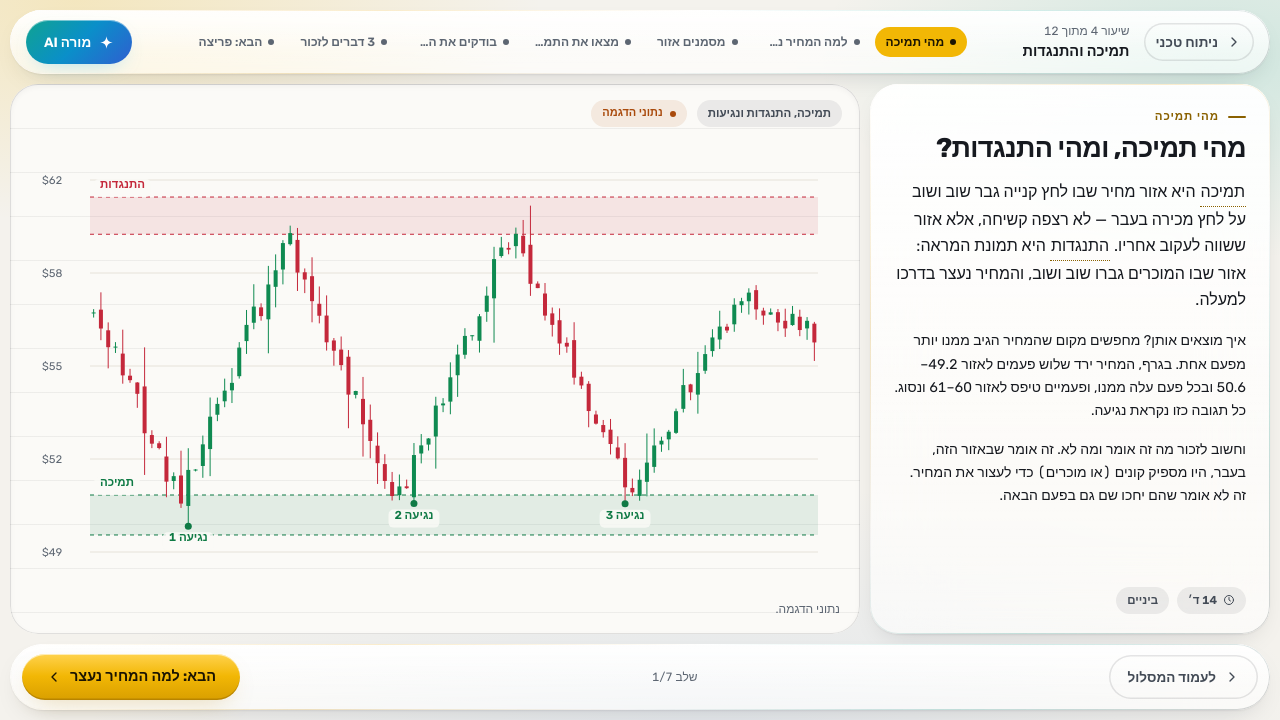
Test: the chart exercise (l1 → T4, step 4) › the feedback step asks for an answer first rather than revealing it
What coordinates should you click on to do the following:
click the button "בודקים את הסימון"
I would click on:
 (461, 42)
Its box is [402,27,520,57].
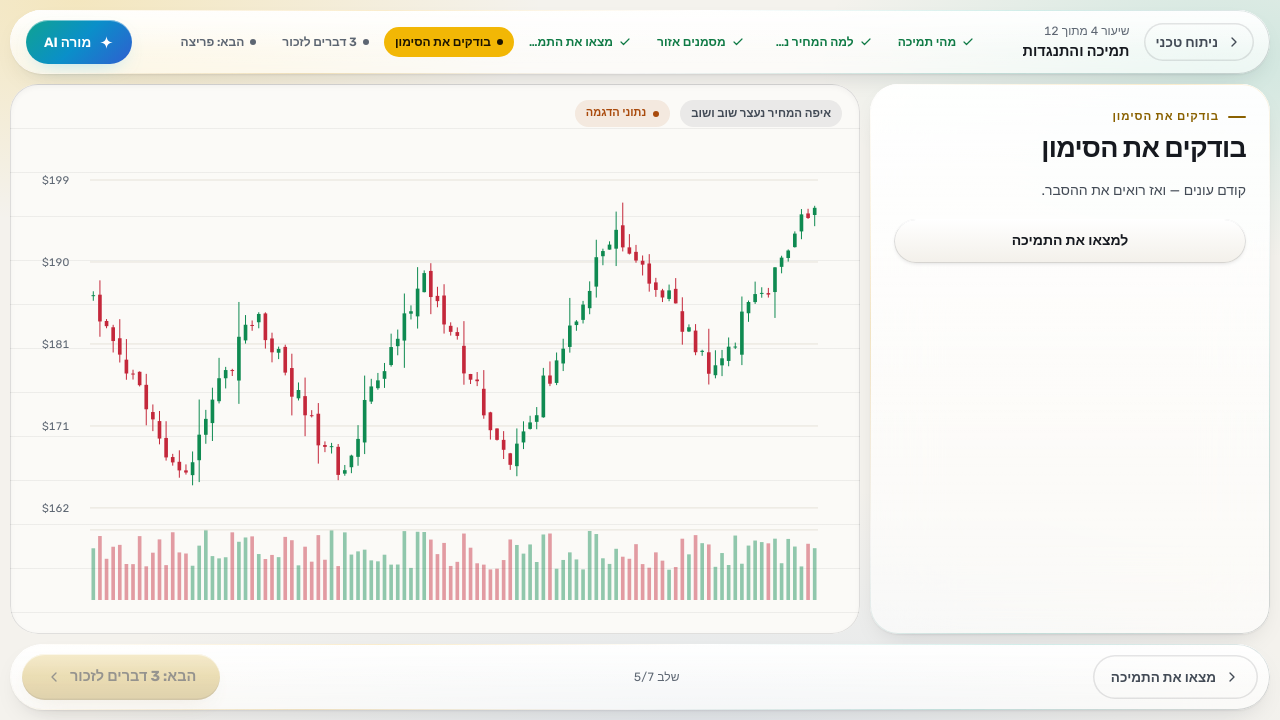
Expected: the text "קודם עונים — ואז רואים את ההסבר." is shown, [1042,182,1246,200]
